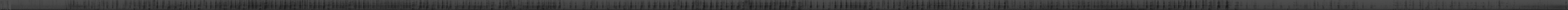Moan: (1208, 0, 1212, 10), (284, 0, 287, 10), (696, 0, 699, 10), (293, 0, 295, 10)
